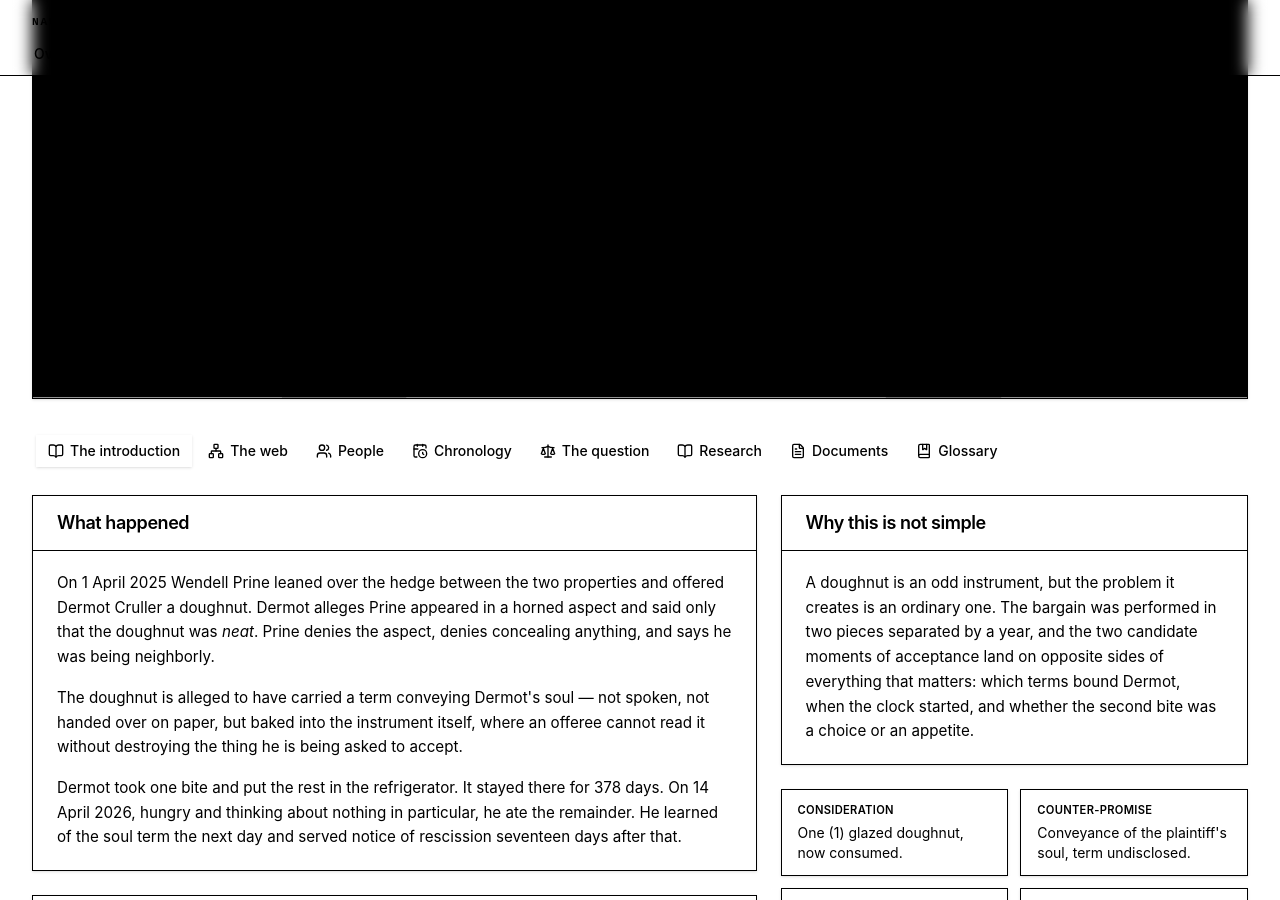
it: the introduction to Count II › scrubs the doughnut through its three states
The width and height of the screenshot is (1280, 900).
(page scrolled)
What coordinates should you click on to do the following:
click the tab "The introduction"
I would click on:
 (114, 450)
Its box is [36,434,192,466].
(page scrolled)
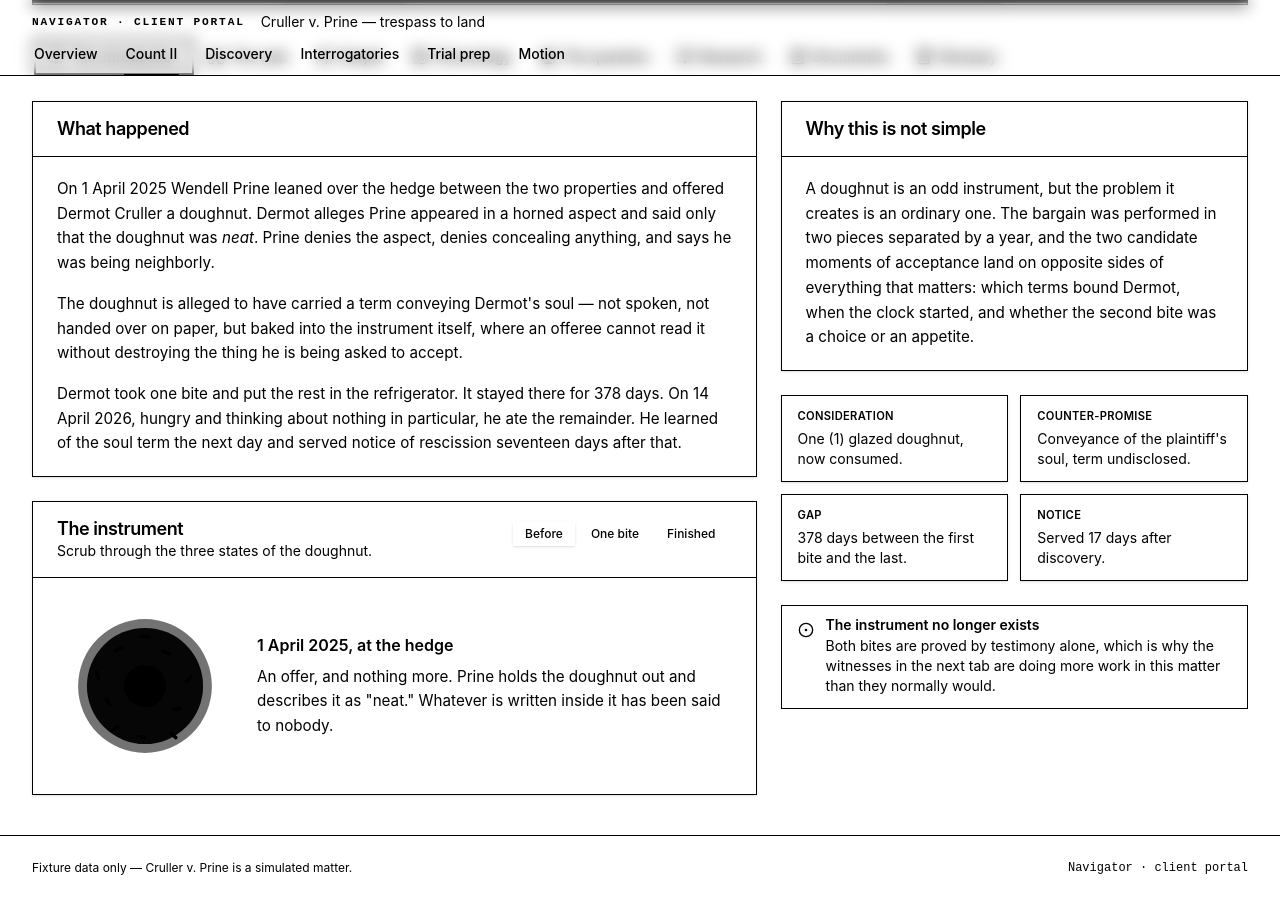
Expected: the picture named "The doughnut, whole" is shown, [57,598,233,774]
What coordinates should you click on to do the following:
click the radio button labelled "One bite"
I would click on:
 (615, 534)
Its box is [579,522,651,546].
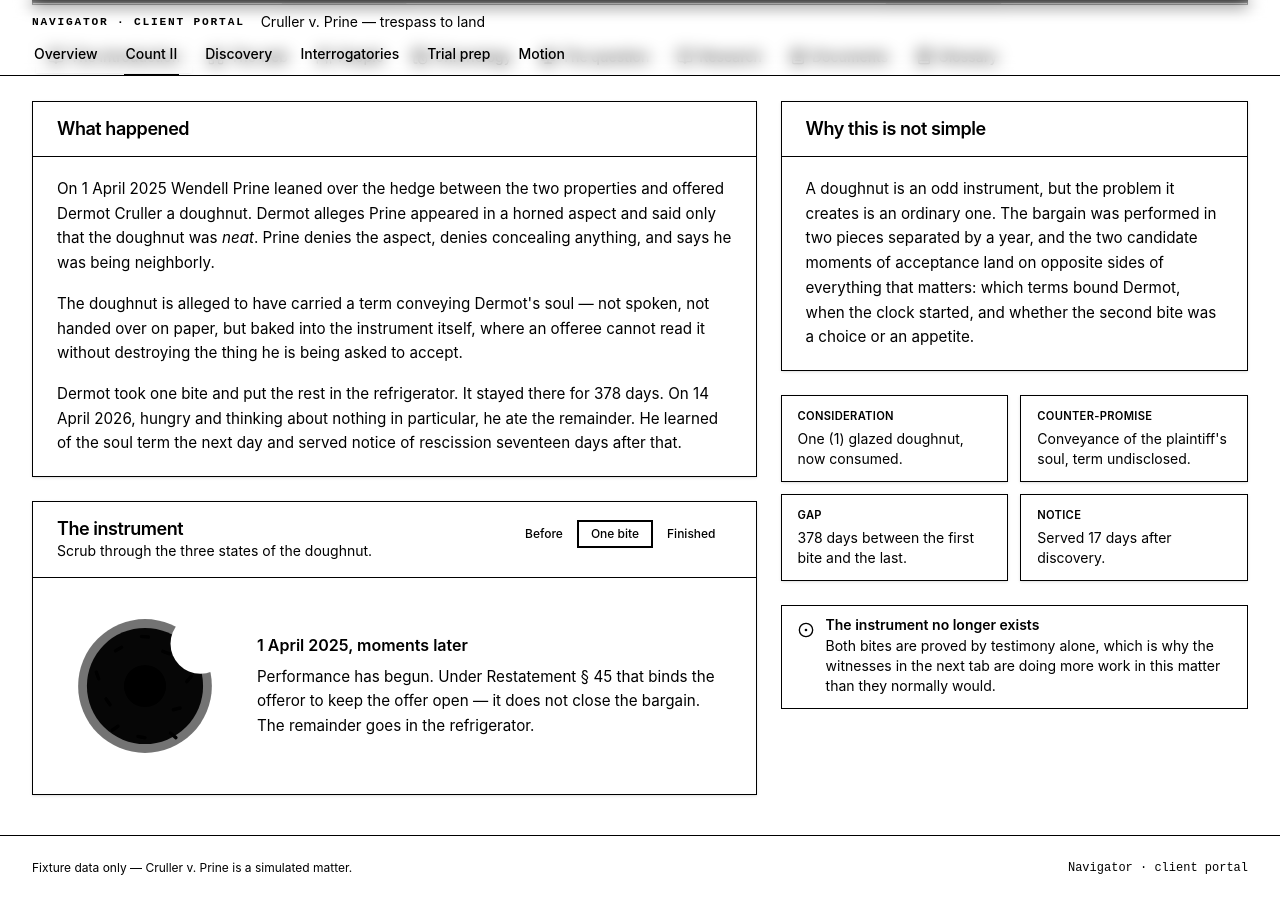
Expected: the picture named "The doughnut with a single bite taken from it" is shown, [57,598,233,774]
What coordinates should you click on to do the following:
click the radio button labelled "Finished"
I would click on:
 (691, 534)
Its box is [655,522,728,546].
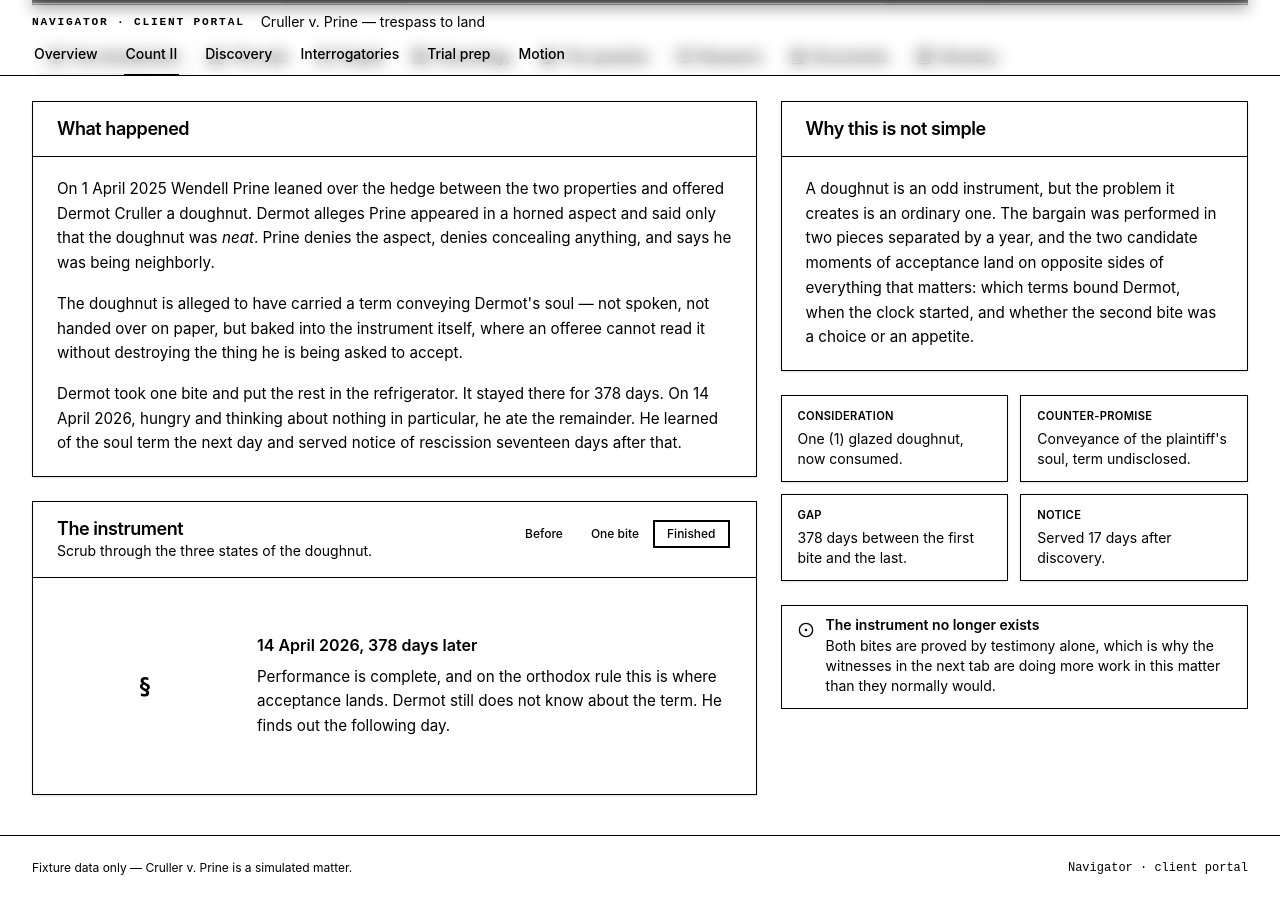
Expected: the picture named "The doughnut, fully consumed" is shown, [57,598,233,774]
